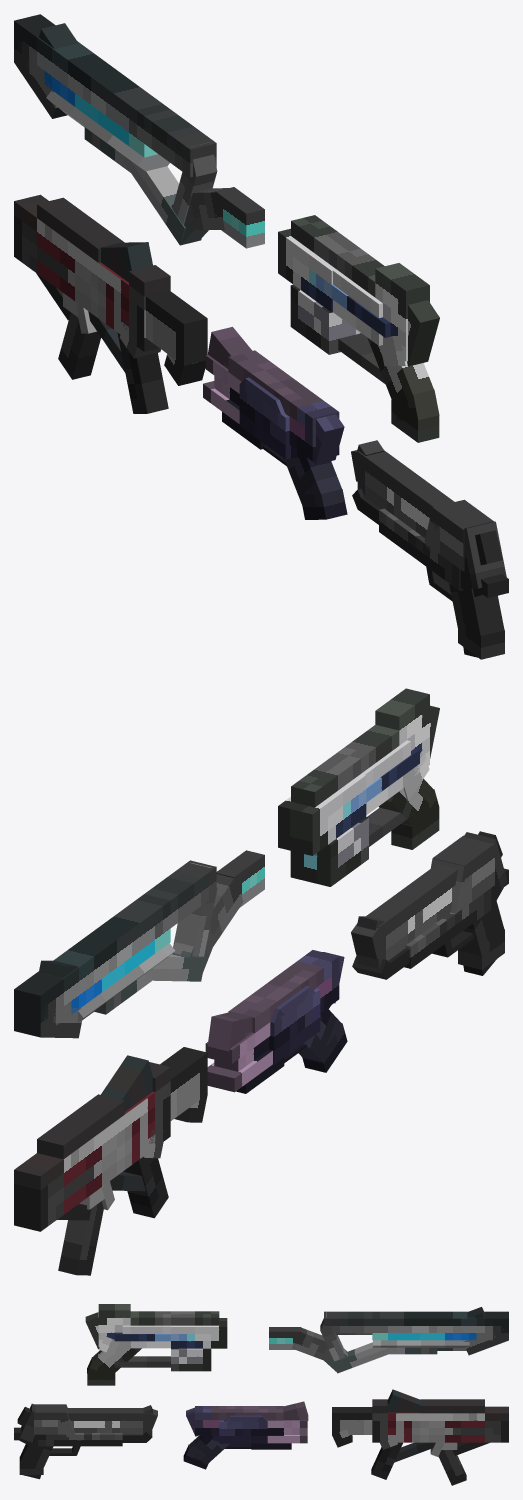
3 views of the same model, one above another, from view 1: azimuth 30°, elevation 25°; view 2: azimuth 150°, elevation 25°; view 3: azimuth 270°, elevation 25° (orthographic). The views are drawn at different scales.
Visible parts, largest first — view 1: cube, cube.047, cube.033, cube.001, cube.064, cube.046, cube.067, cube.063, cube.004, cube.065, cube.044, cube.012 (+31 smaller); view 2: cube, cube.047, cube.033, cube.063, cube.064, cube.048, cube.065, cube.004, cube.067, cube.046, cube.044, cube.001 (+29 smaller); view 3: cube, cube.047, cube.033, cube.063, cube.064, cube.043, cube.013, cube.046, cube.001, cube.067, cube.065, cube.004 (+36 smaller).
Part boxes in pixels (x1,y1,x2,y2): cube: (14,194,170,351); cube.047: (44,41,170,157); cube.033: (357,450,454,537); cube.001: (145,290,207,365); cube.064: (291,215,384,297); cube.046: (144,109,216,177); cube.067: (375,263,429,361); cube.063: (278,228,336,312); cube.004: (37,197,124,262); cube.065: (290,284,367,354); cube.044: (432,499,493,571); cube.012: (117,332,168,413); cube: (14,1081,170,1231); cube.047: (53,894,170,1014); cube.033: (357,864,457,968); cube.063: (278,774,366,855); cube.064: (291,725,399,807); cube.048: (14,971,71,1037); cube.065: (290,817,368,886); cube.004: (37,1094,124,1159); cube.067: (375,688,429,778); cube.046: (145,860,216,927); cube.044: (432,835,494,906); cube.001: (160,1047,207,1120); cube: (372,1406,508,1442); cube.047: (372,1311,476,1340); cube.033: (67,1408,150,1434); cube.063: (171,1318,227,1348); cube.064: (130,1311,219,1325); cube.043: (38,1433,122,1446); cube.013: (219,1420,267,1443); cube.046: (324,1311,372,1333); cube.001: (332,1407,372,1434); cube.067: (98,1304,130,1347); cube.065: (171,1348,211,1371); cube.004: (420,1399,484,1413).
Size of the model in its own units: 18.75 by 151 by 384.
